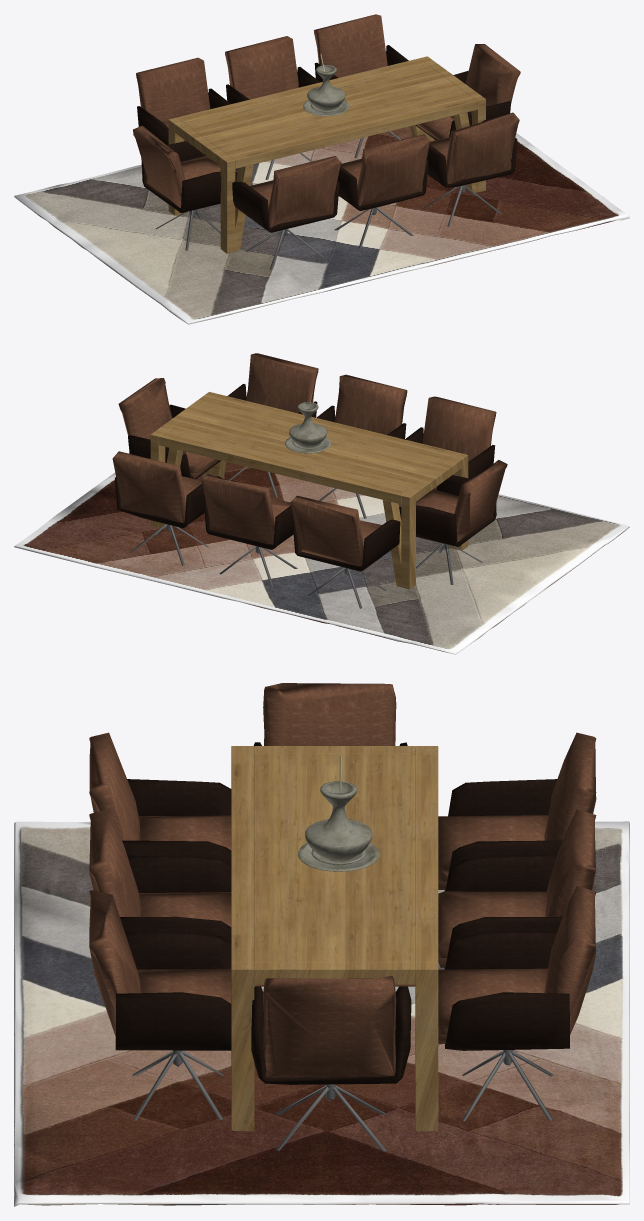
File: conference_meeting_table_and_chairs.glb
3 views of the same model, one above another, from view 1: azimuth 30°, elevation 25°; view 2: azimuth 150°, elevation 25°; view 3: azimuth 270°, elevation 25° (orthographic). The views are drawn at different scales.
Visible parts, largest first — view 1: Box028, Object002_Material #2_0, Object026_Material #3_0, Object011_Material #4_0, Capsule001, Line006_Material #17_0; view 2: Box028, Object002_Material #2_0, Object026_Material #3_0, Object011_Material #4_0, Capsule001, Line006_Material #17_0; view 3: Box028, Object002_Material #2_0, Object026_Material #3_0, Object011_Material #4_0, Capsule001, Line006_Material #17_0, Line003_Material #5_0.
Part boxes in pixels (x1,y1,x2,y2): Box028: (14, 126, 629, 324); Object002_Material #2_0: (133, 14, 520, 227); Object026_Material #3_0: (168, 56, 485, 253); Object011_Material #4_0: (137, 45, 517, 232); Capsule001: (155, 131, 501, 270); Line006_Material #17_0: (307, 65, 345, 110); Box028: (14, 462, 629, 654); Object002_Material #2_0: (112, 353, 507, 566); Object026_Material #3_0: (150, 392, 468, 589); Object011_Material #4_0: (115, 384, 496, 571); Capsule001: (130, 466, 482, 608); Line006_Material #17_0: (289, 402, 327, 447); Box028: (14, 821, 629, 1206); Object002_Material #2_0: (89, 683, 596, 1077); Object026_Material #3_0: (231, 746, 438, 1131); Object011_Material #4_0: (115, 742, 569, 1084); Capsule001: (132, 1050, 552, 1151); Line006_Material #17_0: (305, 781, 372, 861); Line003_Material #5_0: (298, 843, 379, 871).
Bounding box in the file's own units: 392 × 128 × 268.
Materials: 8 (6 with a texture image).
